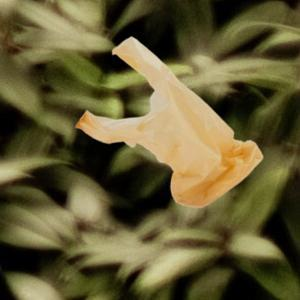plastic_bag: (75, 35, 265, 209)
